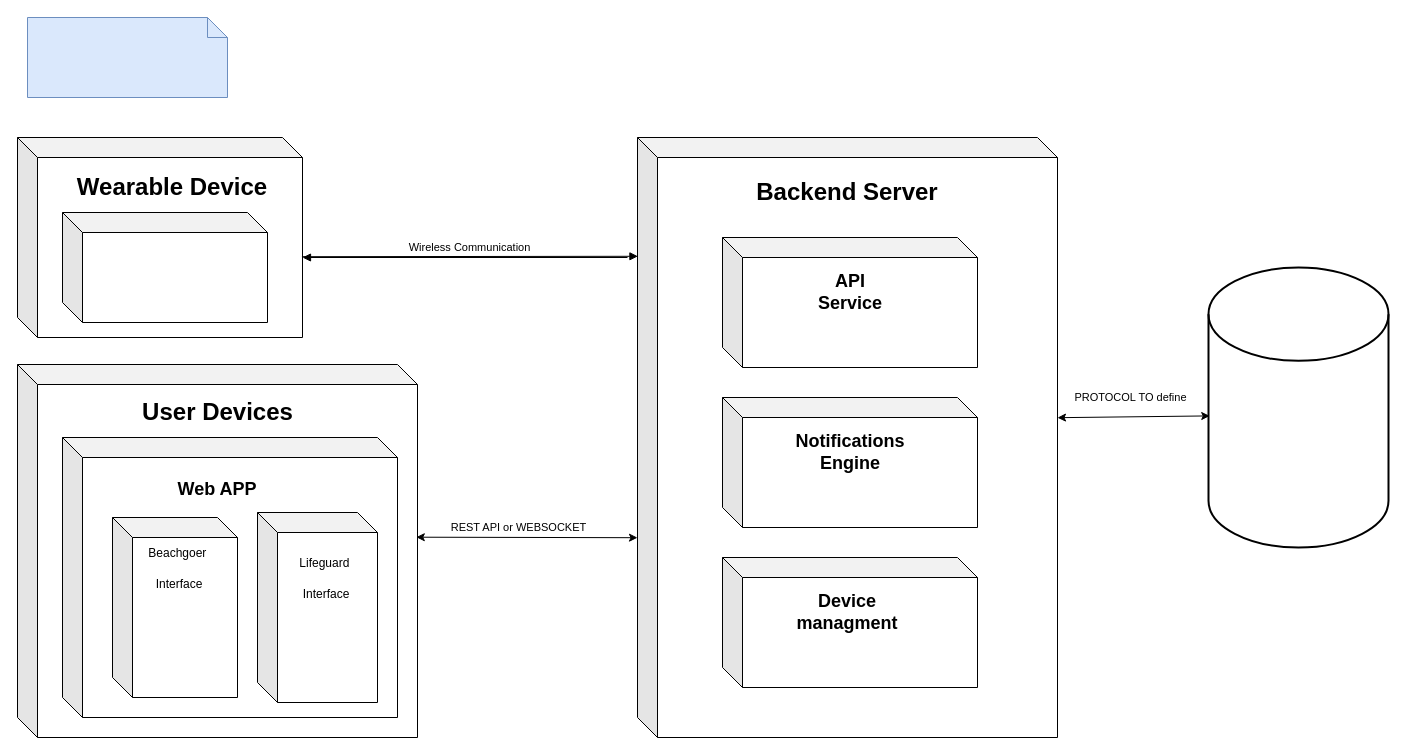
The diagram is 1407 pixels wide and 755 high, and some of its shapes have lost their labels. Here are the shapes that lost their labels. From the top down, the centre of each, then its label:
(127,57): SPLASH Grupo 14 (AM) V2024/11/25
(165,267): GPS/RFID tracking
(1298,407): SQL Database
